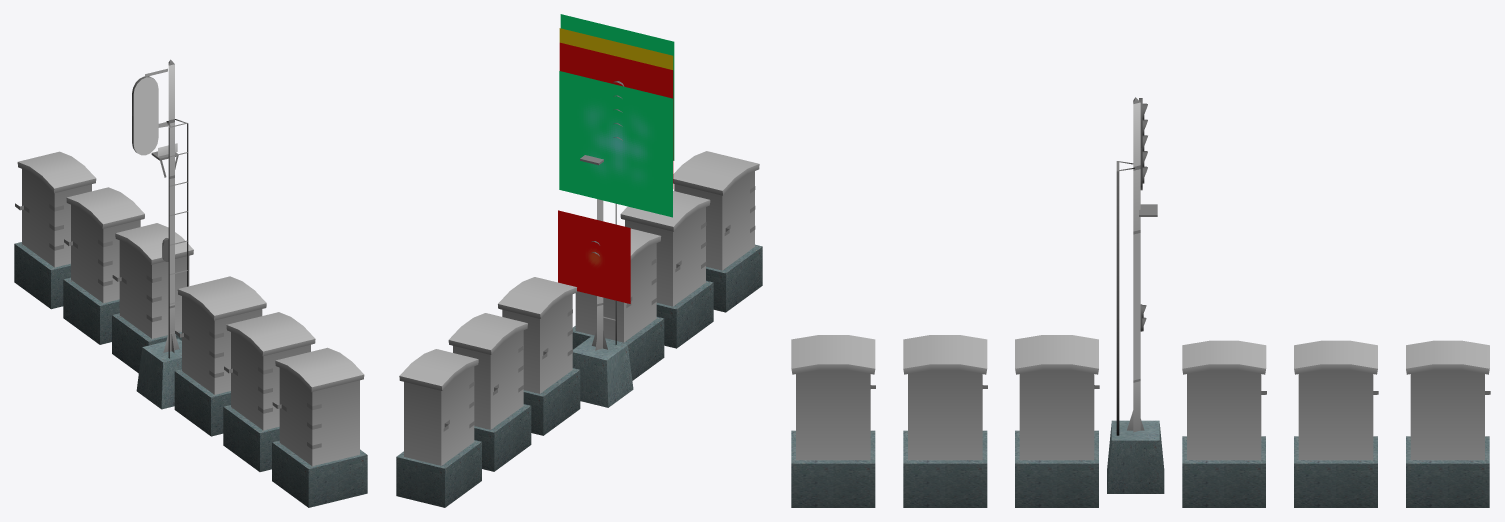
Rendered from SIGNAL_CHU.glb.
3 renders of one model, left to right at view 1: azimuth 30°, elevation 25°; view 2: azimuth 150°, elevation 25°; view 3: azimuth 270°, elevation 25°, orthographic. The views are drawn at different scales.
Visible parts, largest first — view 1: box, box1, body, signal_big, signal; view 2: box1, box, GG, light_mini, body, light02, light00, light01; view 3: box, box1, body.
Part boxes in pixels (<box>): box: <box>174,276,367,507</box>; box1: <box>14,151,193,373</box>; body: <box>136,59,188,409</box>; signal_big: <box>132,89,158,155</box>; signal: <box>132,76,158,127</box>; box1: <box>396,277,580,507</box>; box: <box>572,151,762,380</box>; GG: <box>559,14,674,217</box>; light_mini: <box>558,210,630,303</box>; body: <box>572,155,633,407</box>; light02: <box>559,42,673,188</box>; light00: <box>560,14,674,160</box>; light01: <box>559,28,673,69</box>; box: <box>791,335,1099,507</box>; box1: <box>1182,340,1490,507</box>; body: <box>1107,97,1164,493</box>.
Bounding box in the file's own units: 6.63 × 18.84 × 28.13.
Materials: 16 (16 with a texture image).
